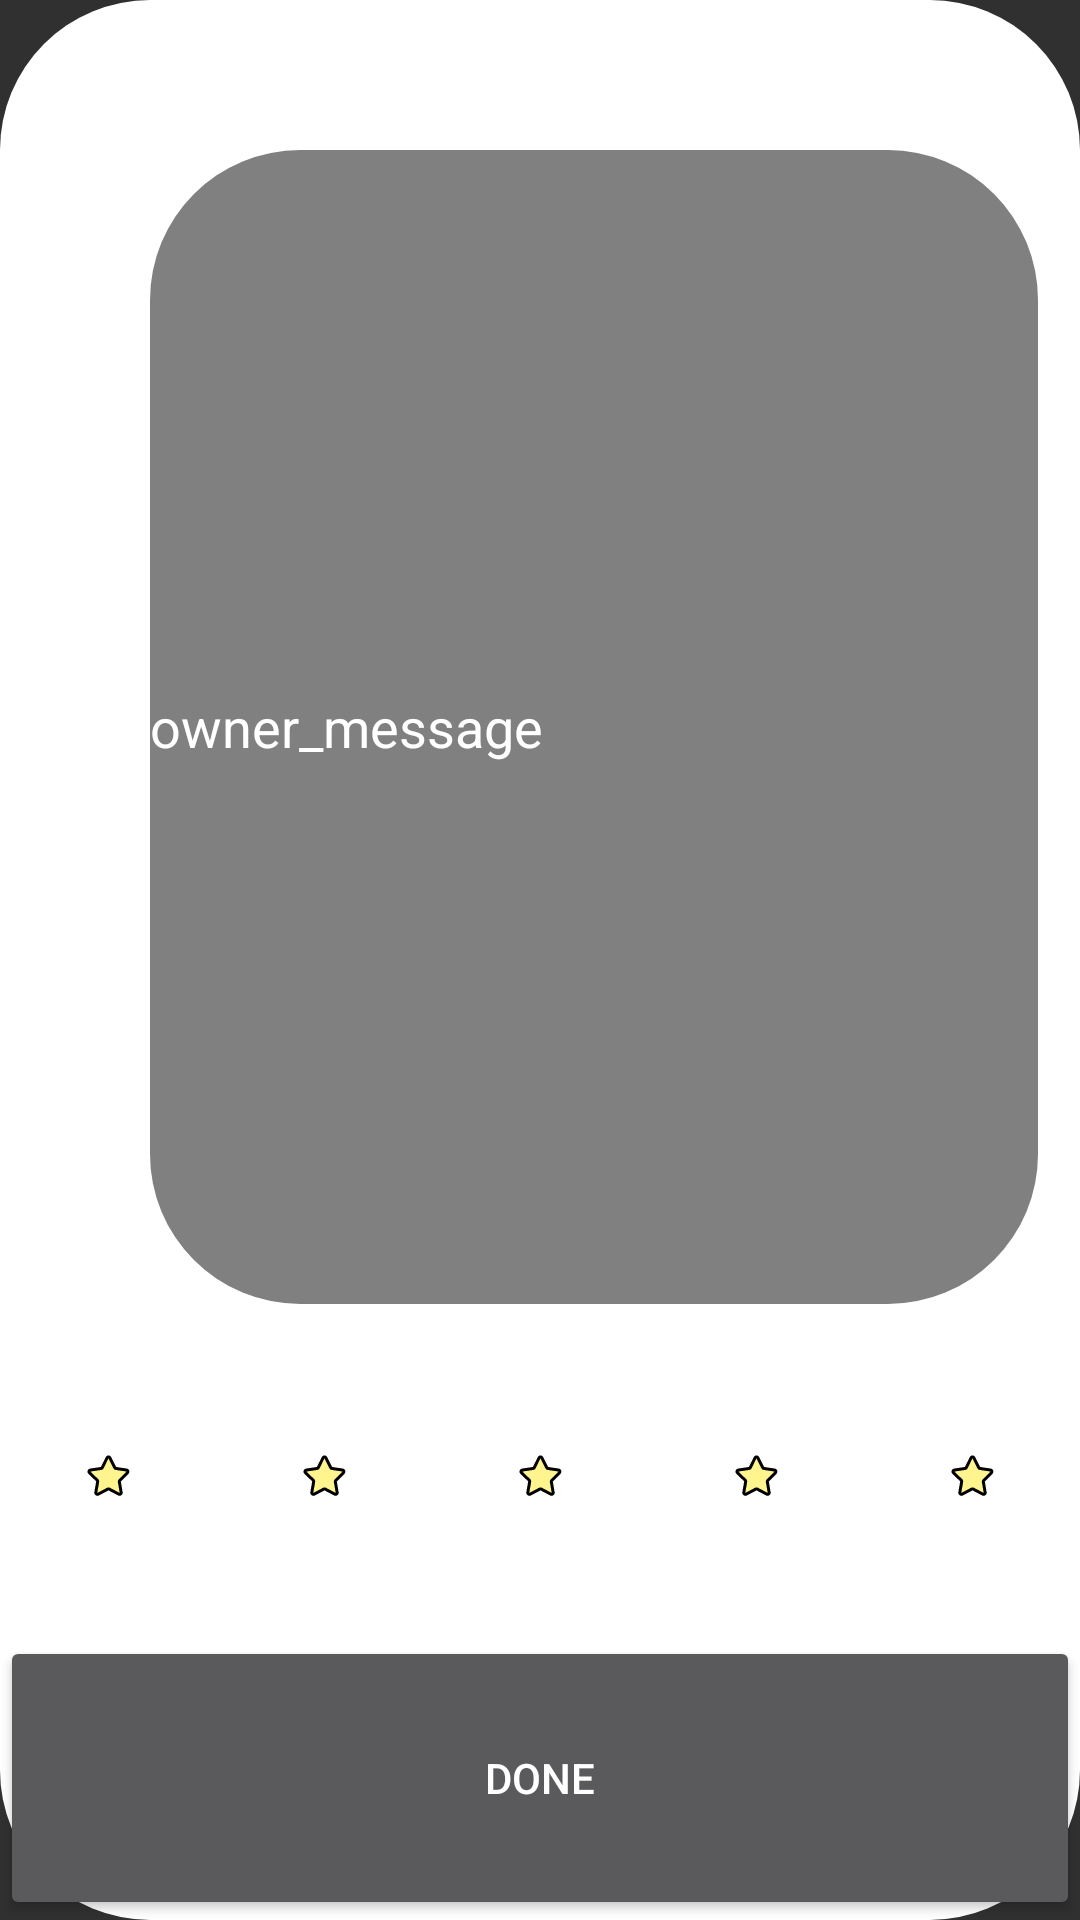

Screen size 1080 × 1920. Icon name, then its center in pixels as (x=x, y=y):
star: (x=108, y=1475), (x=324, y=1475), (x=540, y=1475), (x=756, y=1475), (x=972, y=1475)
